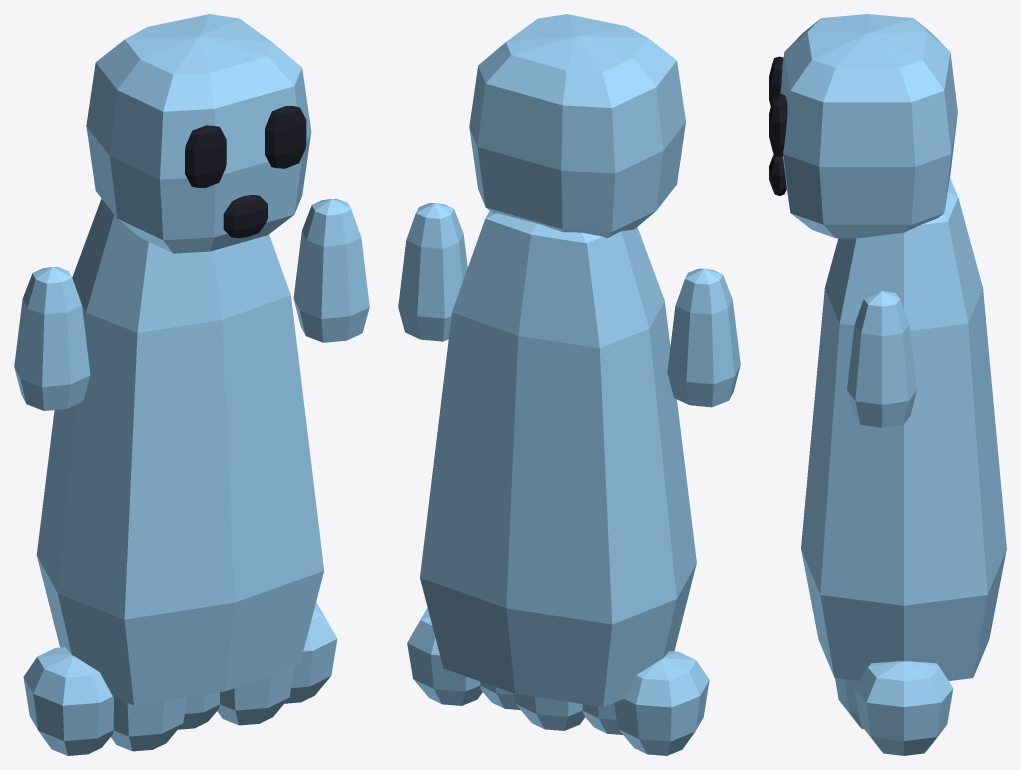
File: mon-ghost-2.glb
3 renders of one model, left to right at view 1: azimuth 30°, elevation 25°; view 2: azimuth 150°, elevation 25°; view 3: azimuth 270°, elevation 25°, orthographic. The views are drawn at different scales.
Parts seen in each view (by area): view 1: torso, head, arm-left, arm-right; view 2: torso, head, arm-right, arm-left; view 3: torso, head, arm-left.
Boxes of the visible parts, left/top/right/bottom form: torso: left=23, top=198, right=337, bottom=755; head: left=86, top=14, right=311, bottom=253; arm-left: left=293, top=198, right=369, bottom=342; arm-right: left=14, top=267, right=90, bottom=410; torso: left=407, top=211, right=709, bottom=755; head: left=469, top=14, right=685, bottom=238; arm-right: left=667, top=268, right=740, bottom=407; arm-left: left=398, top=203, right=467, bottom=341; torso: left=801, top=178, right=1006, bottom=755; head: left=769, top=14, right=957, bottom=238; arm-left: left=847, top=291, right=916, bottom=427.
Size of the model in its own units: 1.03 by 2.02 by 0.6505.
